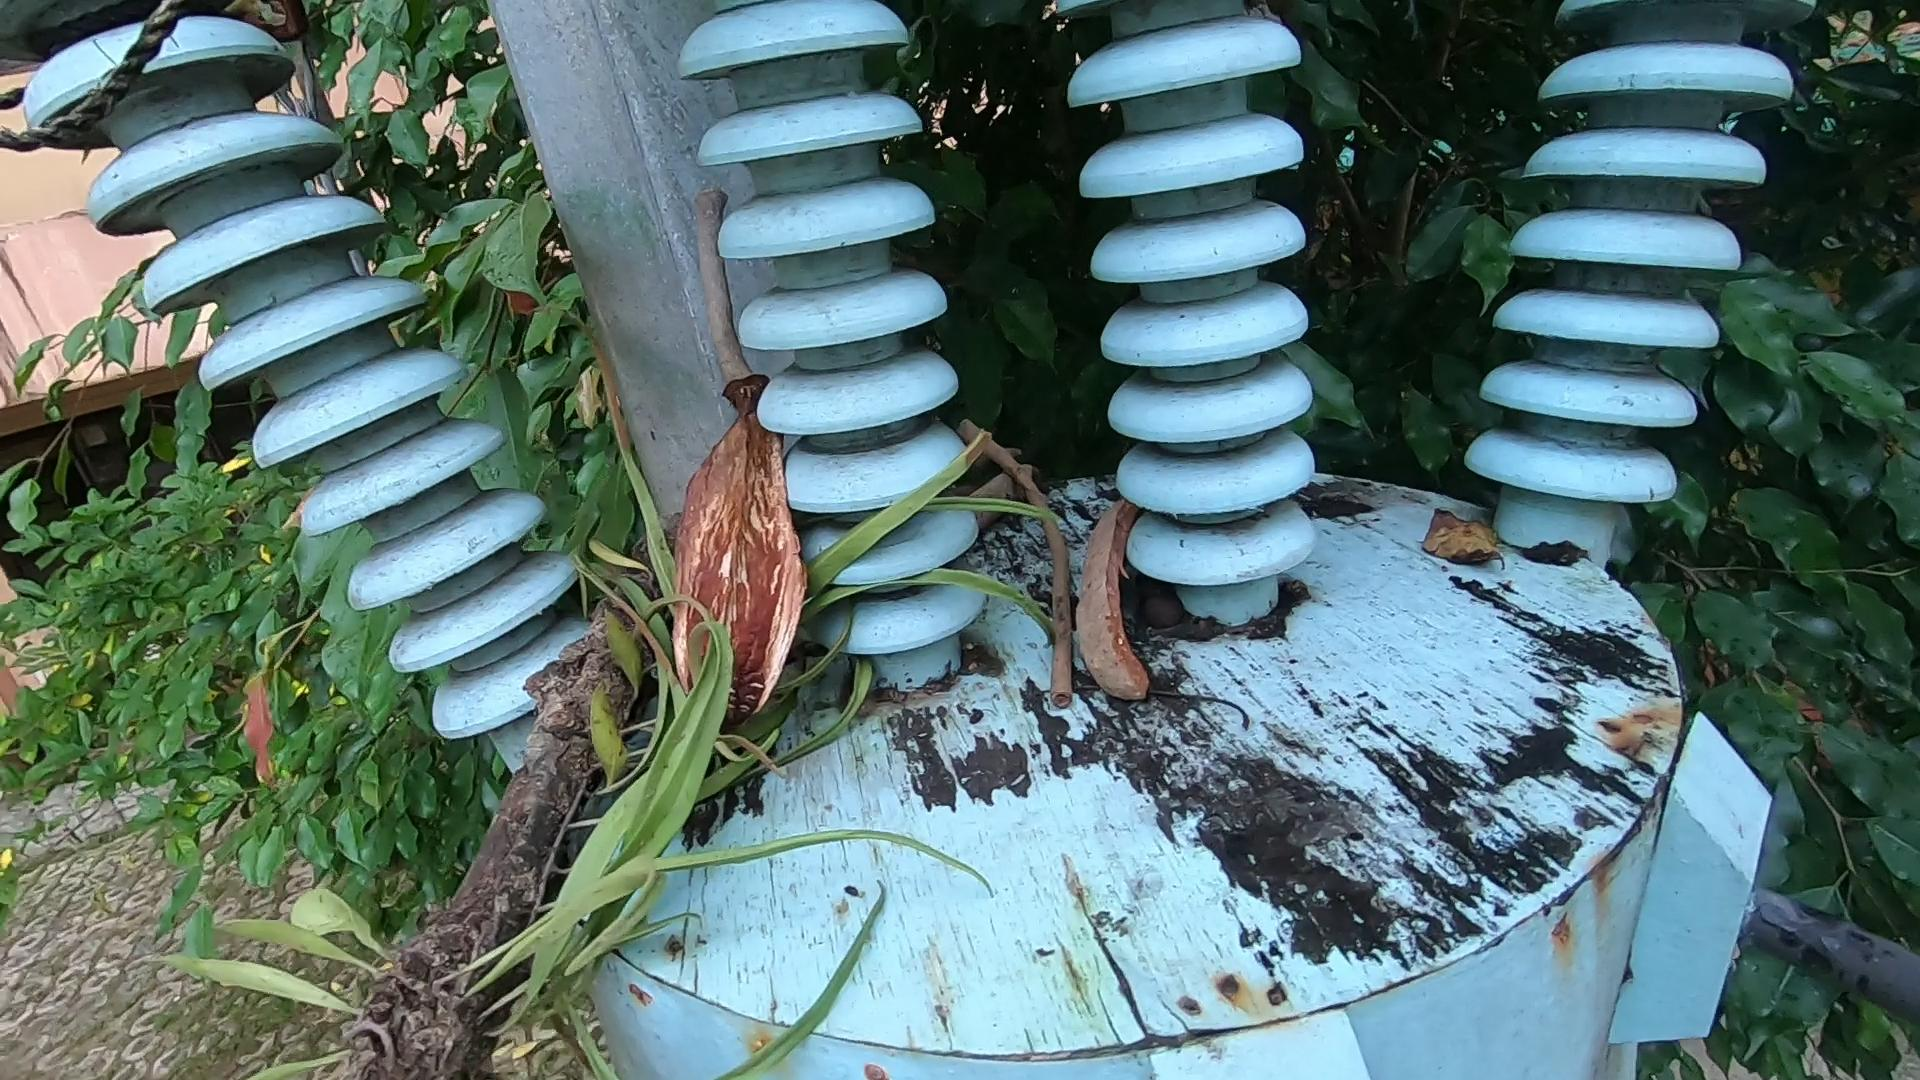branch with leaves: (206, 487, 955, 1080)
leaf: (1418, 491, 1513, 592)
mahogany fruit: (708, 401, 868, 724), (1081, 451, 1168, 740)
tree branch: (951, 411, 1114, 731), (688, 167, 767, 394)
